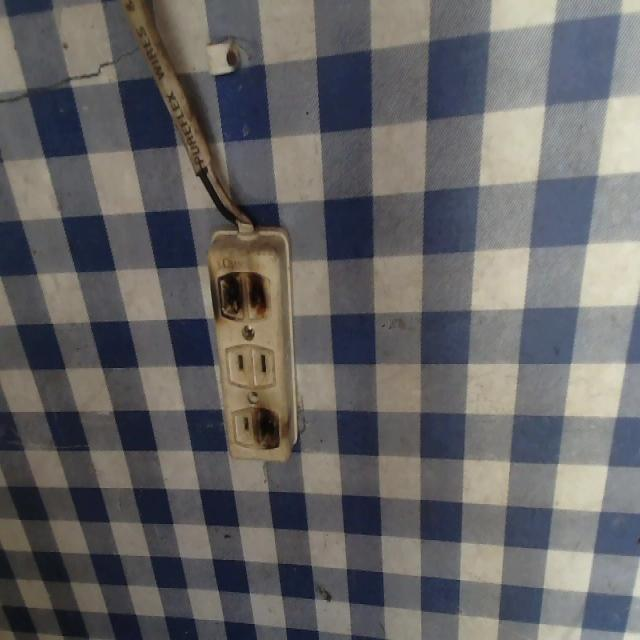-: (208, 267, 273, 328), (248, 399, 283, 456)
